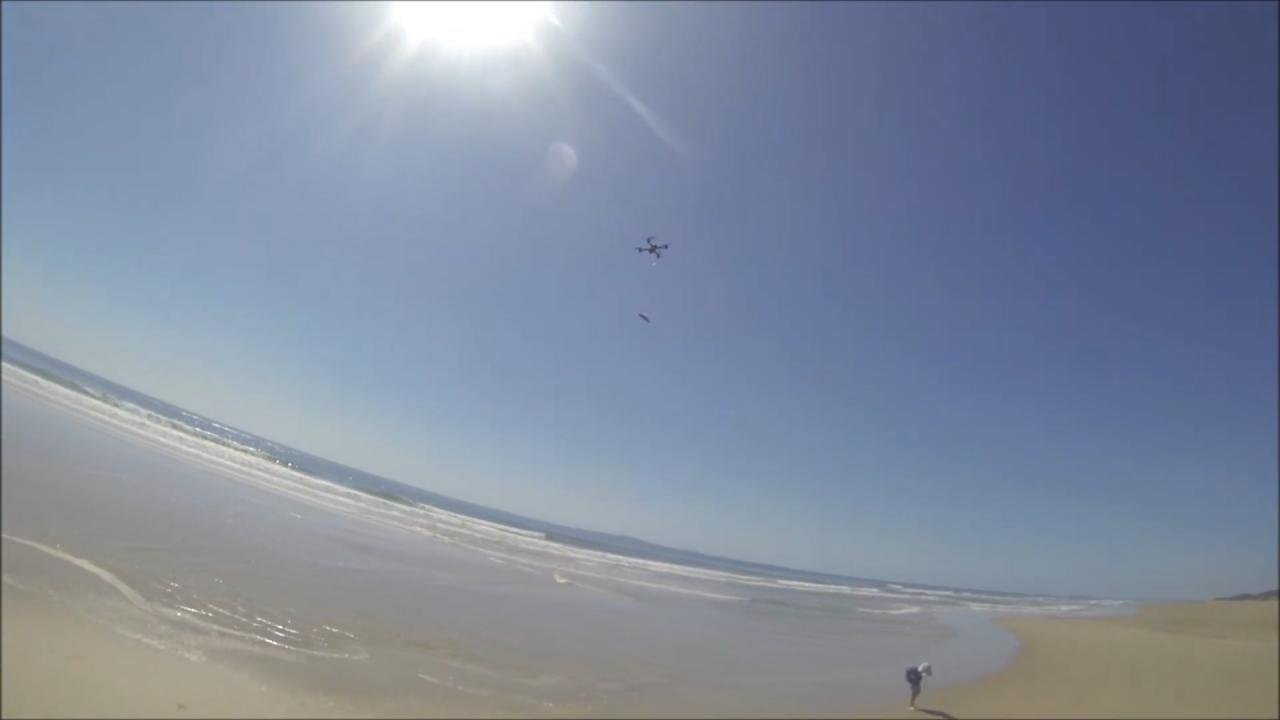Drone: (630, 230, 676, 267)
